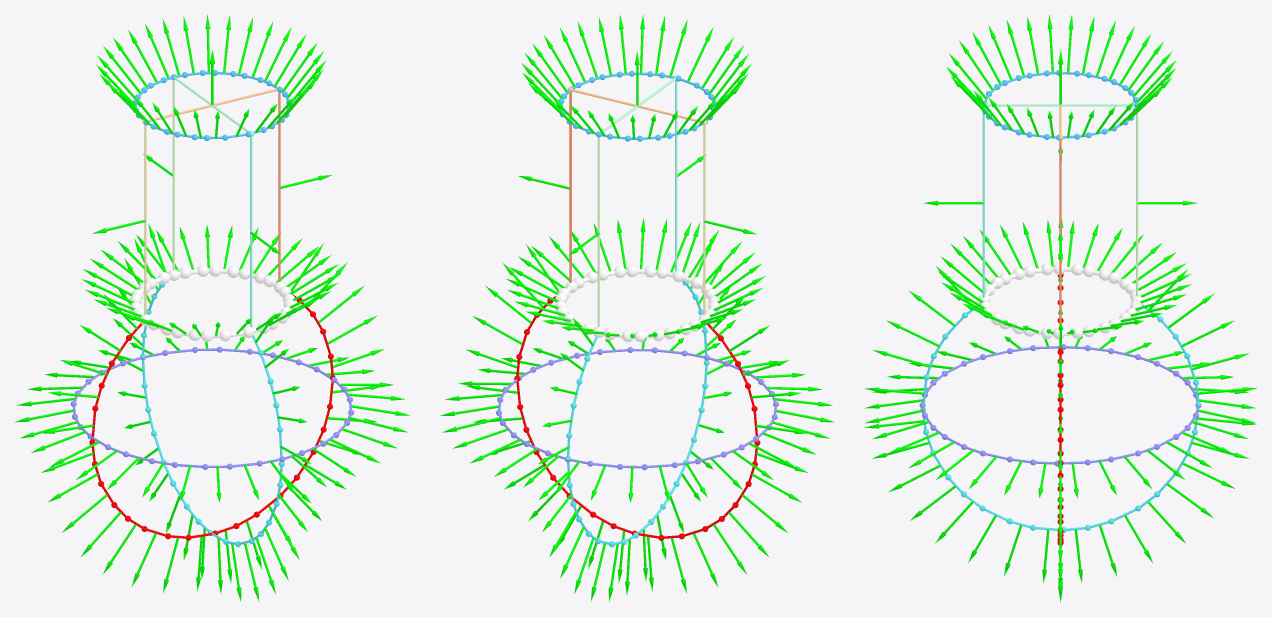
Rendered from flowrep_spherecylinder.gltf.
The picture shows the model from 3 angles, left to right: view 1: azimuth 30°, elevation 25°; view 2: azimuth 150°, elevation 25°; view 3: azimuth 270°, elevation 25°; orthographic projection.
Bounding box in the file's own units: 0.6459 × 0.9663 × 0.6459.
